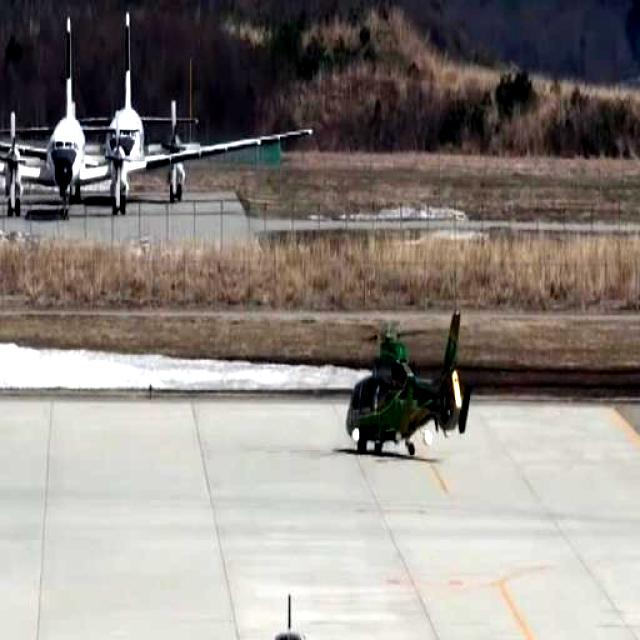0: (91, 0, 198, 235), (4, 0, 92, 239), (230, 551, 351, 640)
drone: (312, 291, 508, 478)
